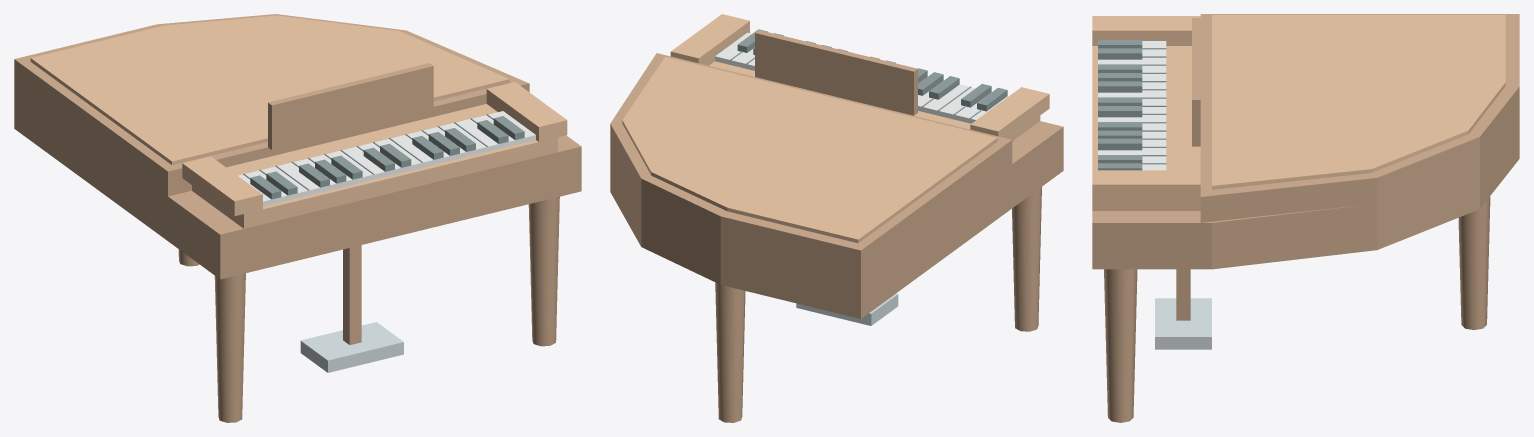
File: pianoGrand.glb
3 renders of one model, left to right at view 1: azimuth 30°, elevation 25°; view 2: azimuth 150°, elevation 25°; view 3: azimuth 270°, elevation 25°, orthographic. The views are drawn at different scales.
Visible parts, largest first — view 1: pianoGrand; view 2: pianoGrand; view 3: pianoGrand.
Boxes of the visible parts, x1,y1,x2,y2 form: pianoGrand: (14,14,581,422); pianoGrand: (610,14,1063,422); pianoGrand: (1092,14,1519,422).
Bounding box in the file's own units: 0.76 × 0.54 × 0.75.
